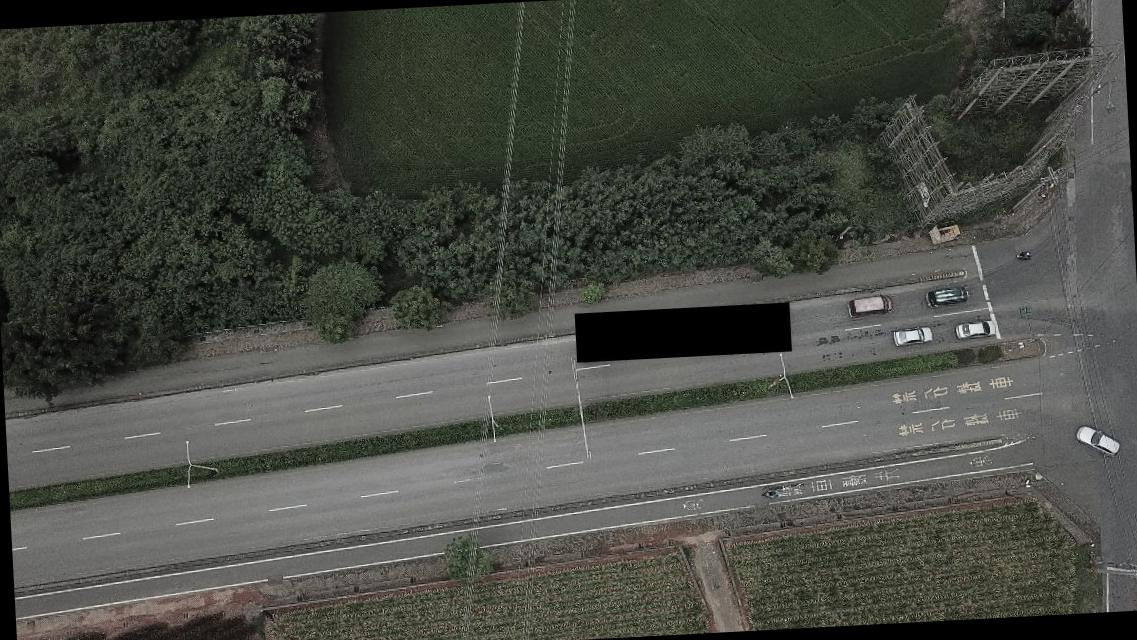vehicle: (1071, 424, 1122, 459), (844, 294, 892, 320), (924, 286, 971, 307), (954, 316, 996, 339), (890, 327, 933, 348), (932, 223, 964, 240)
